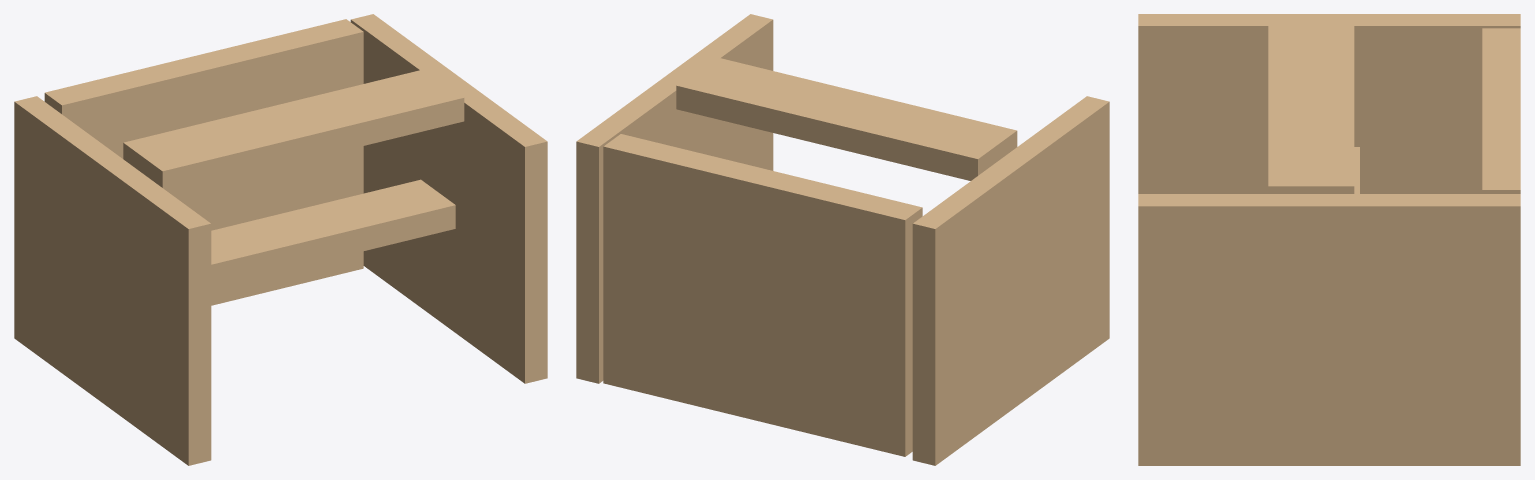
File: tinker.obj
3 views of the same model, side by side, from view 1: azimuth 30°, elevation 25°; view 2: azimuth 150°, elevation 25°; view 3: azimuth 270°, elevation 25° (orthographic). The views are drawn at different scales.
Parts seen in each view (by area): view 1: obj_0; view 2: obj_0; view 3: obj_0.
Part boxes in pixels (left/top/right/bottom): obj_0: left=14, top=14, right=547, bottom=465; obj_0: left=576, top=14, right=1109, bottom=465; obj_0: left=1138, top=14, right=1520, bottom=465.
Bounding box in the file's own units: 238 × 154 × 200.
